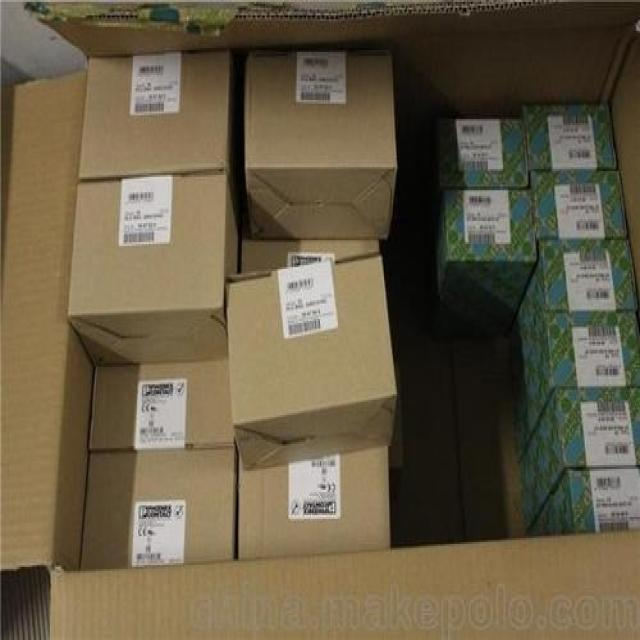box: (226, 256, 397, 474), (67, 173, 239, 369), (77, 52, 244, 235), (244, 48, 396, 239), (510, 312, 638, 466), (79, 449, 235, 571), (508, 238, 639, 382), (518, 384, 639, 534), (237, 445, 390, 559), (425, 188, 538, 337), (88, 361, 234, 451), (525, 467, 639, 536), (527, 166, 627, 240), (438, 119, 528, 191), (522, 105, 618, 170), (240, 238, 382, 275)
